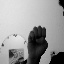e: (26, 25, 49, 55)
